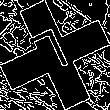L_SE: (31, 26, 79, 84)
